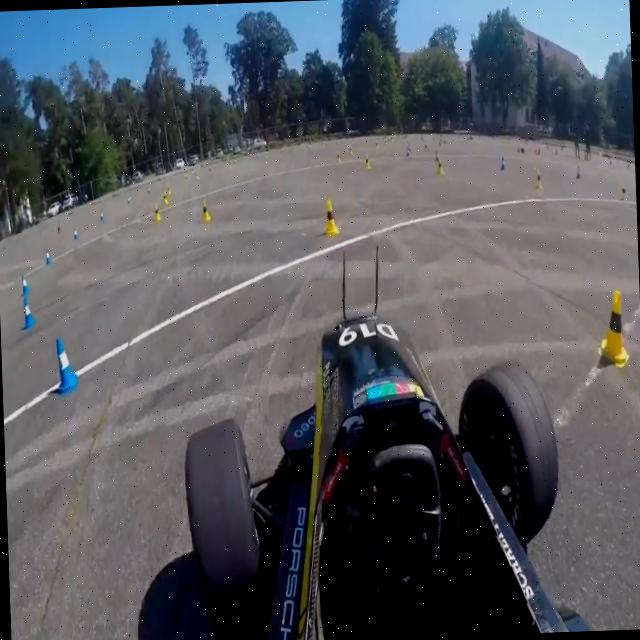blue_cone: (54, 337, 80, 395), (21, 295, 36, 329), (20, 274, 30, 296), (44, 248, 52, 266), (73, 226, 80, 242)
yellow_cone: (596, 286, 630, 369), (322, 196, 340, 238), (201, 199, 211, 222), (154, 204, 162, 222), (162, 190, 168, 206)
